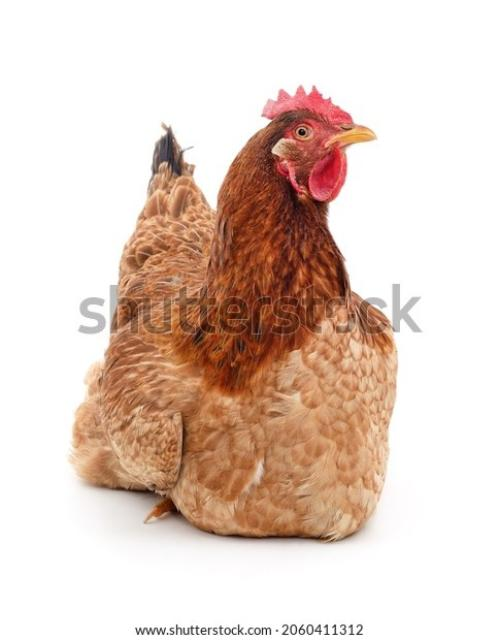Chicken: (68, 84, 399, 545)
